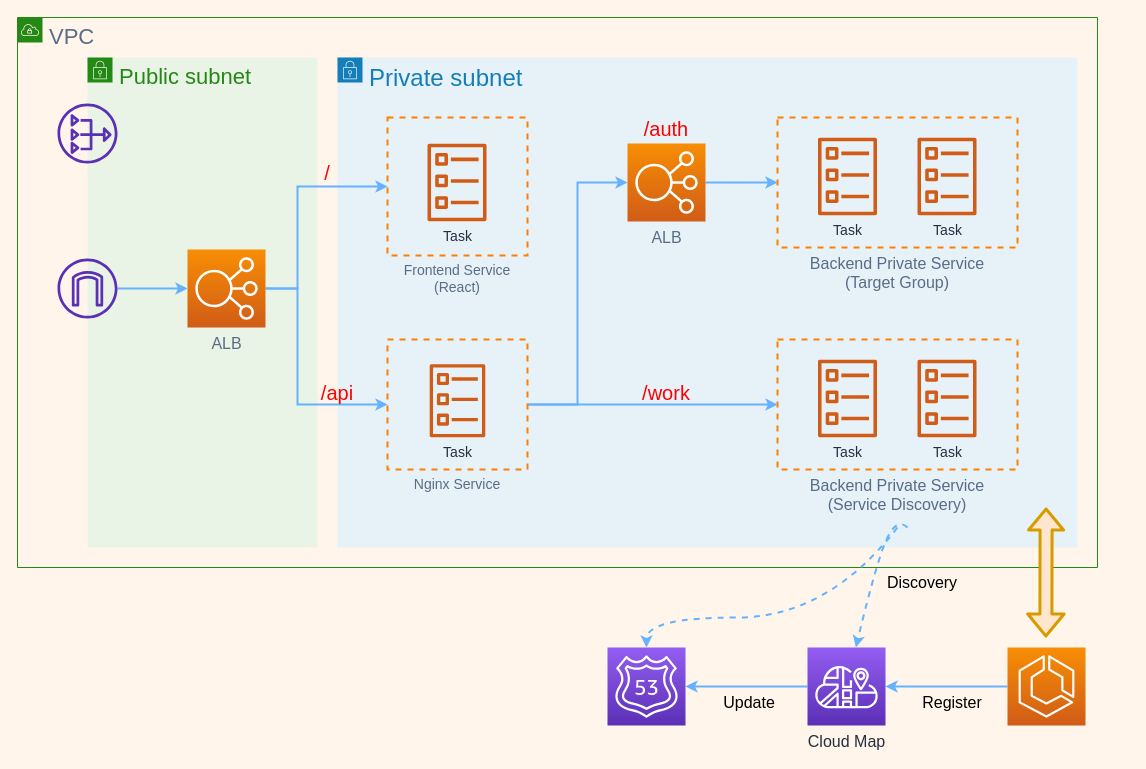
Some shapes in this 1146 by 769 pixel diagram are drawn without their labels. The centre of each missing label's shape, as x and y in pixels:
"ECS Service Discovery" goes at point (1046, 686).
"Internet Gateway" goes at point (87, 288).
"NAT Gateway" goes at point (87, 133).
"Route53" goes at point (646, 686).
